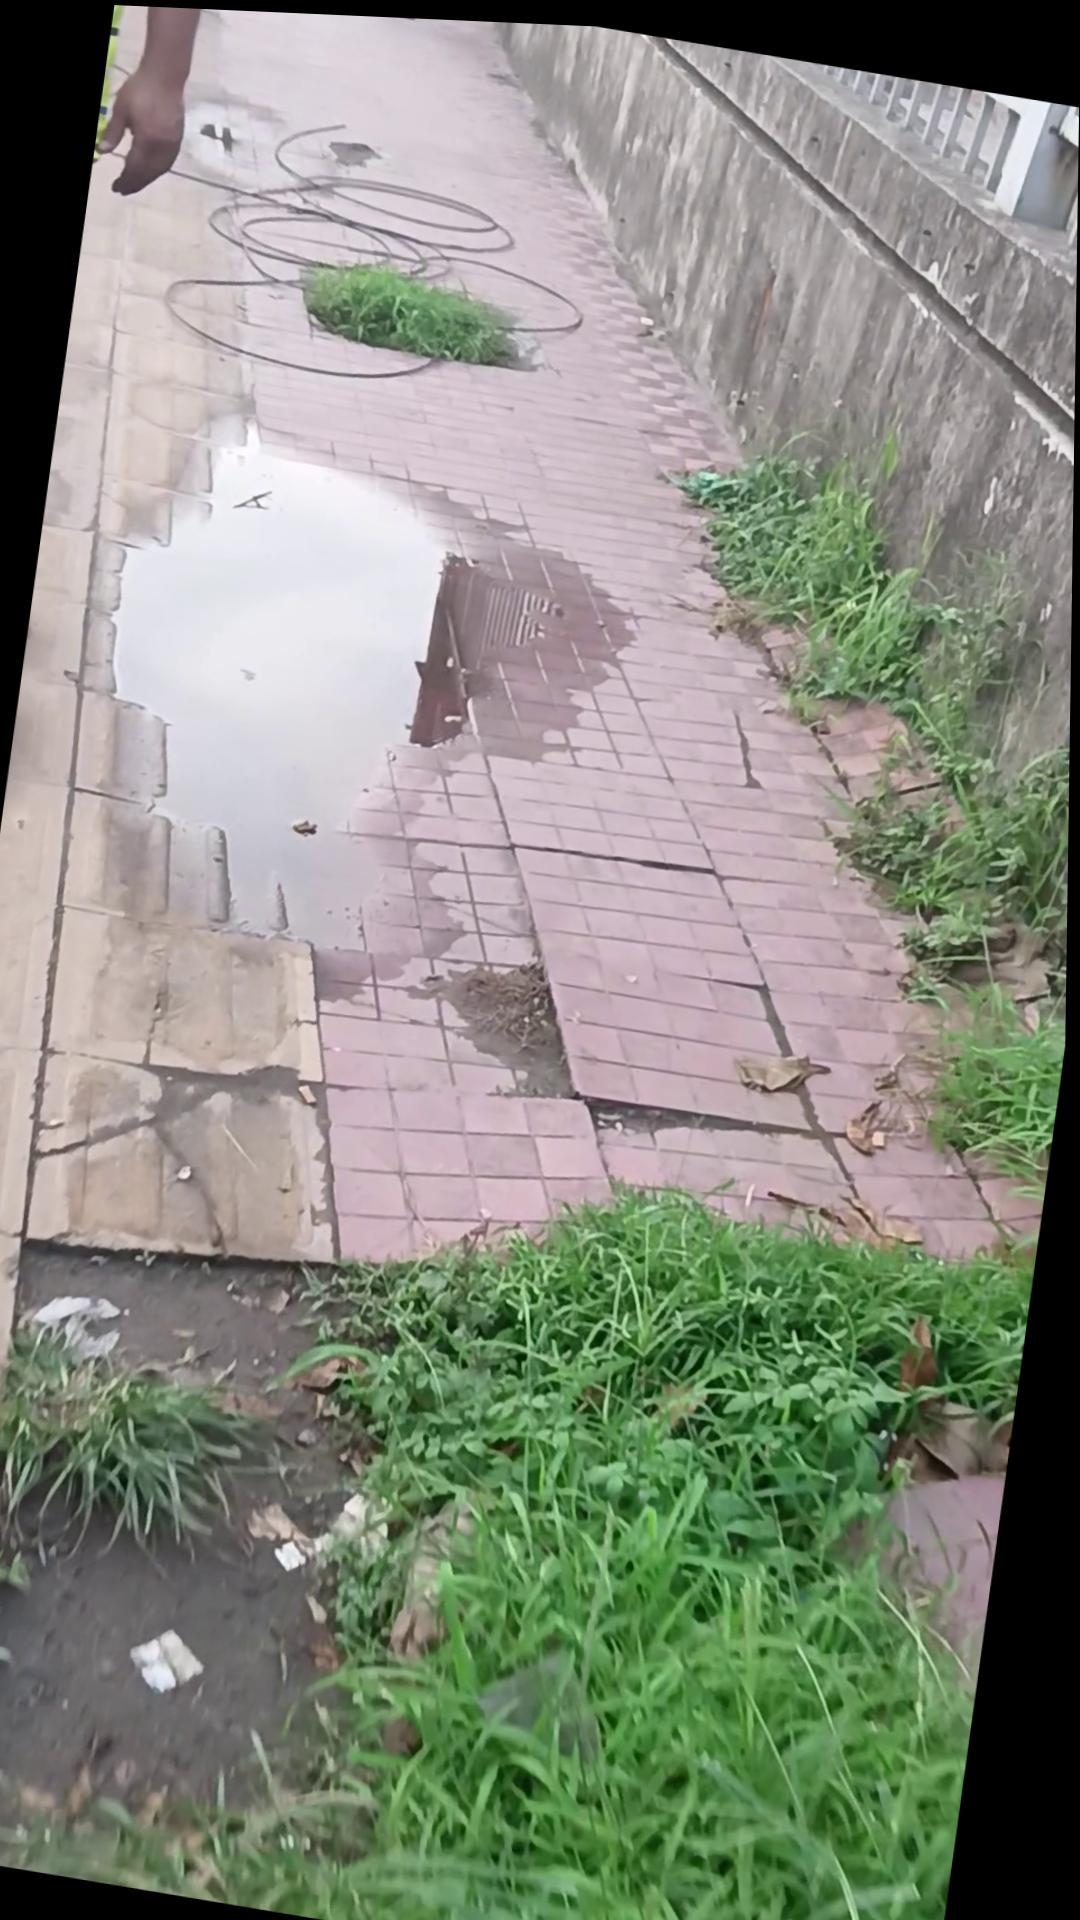Muddy road: (88, 3, 210, 203)
Potted-plant: (0, 0, 1080, 1920)
Railroad-crossing: (55, 393, 588, 976)
